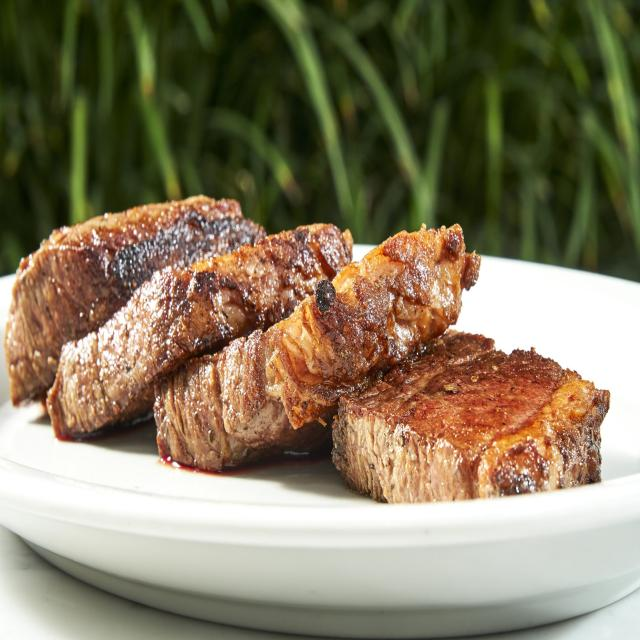carne de res: (9, 182, 622, 538)
